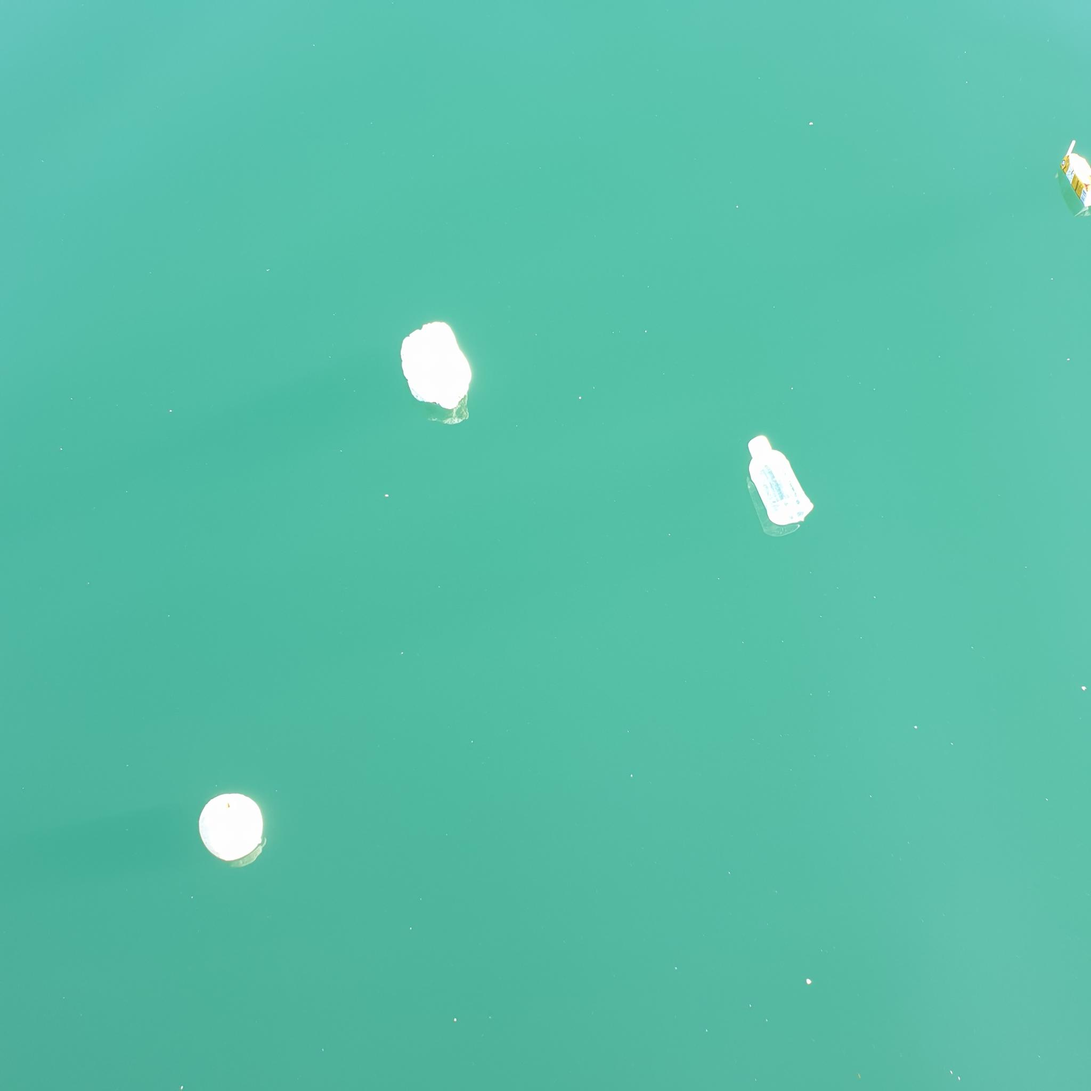sampah_terapung: (401, 322, 471, 410), (748, 435, 815, 525), (199, 794, 264, 862)
